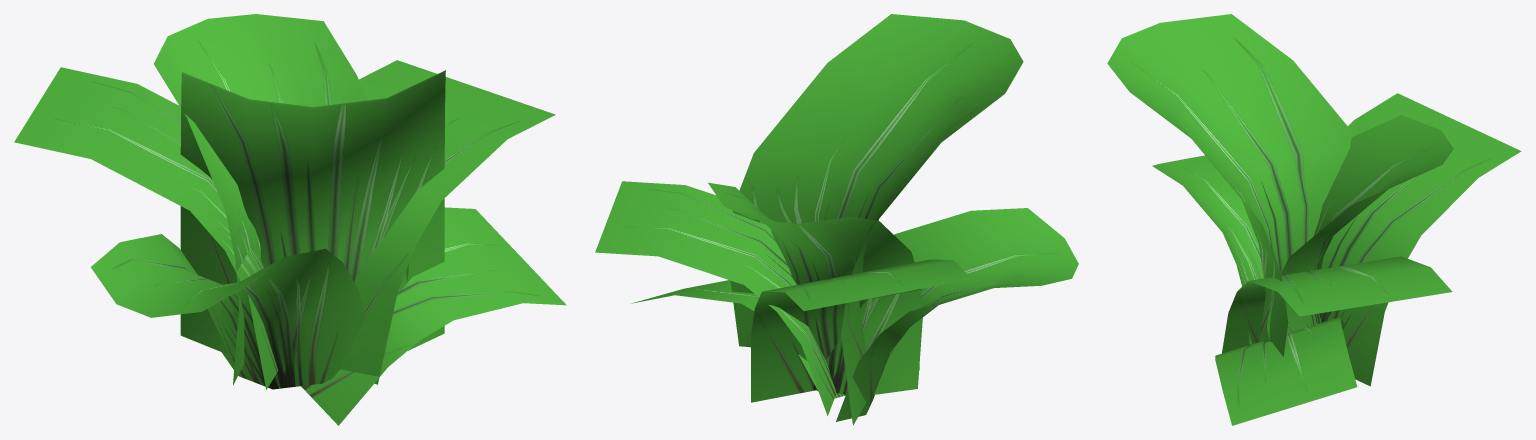
The model's file is flowerplant3_lod0.fbx.
3 views of the same model, side by side, from view 1: azimuth 30°, elevation 25°; view 2: azimuth 150°, elevation 25°; view 3: azimuth 270°, elevation 25° (orthographic). The views are drawn at different scales.
Visible parts, largest first — view 1: Mesh Object; view 2: Mesh Object; view 3: Mesh Object.
Boxes of the visible parts, bbox=[...] form: Mesh Object: bbox=[14, 14, 566, 425]; Mesh Object: bbox=[595, 14, 1078, 425]; Mesh Object: bbox=[1107, 14, 1521, 425].
Bounding box in the file's own units: 2.96 × 2.25 × 2.71.
